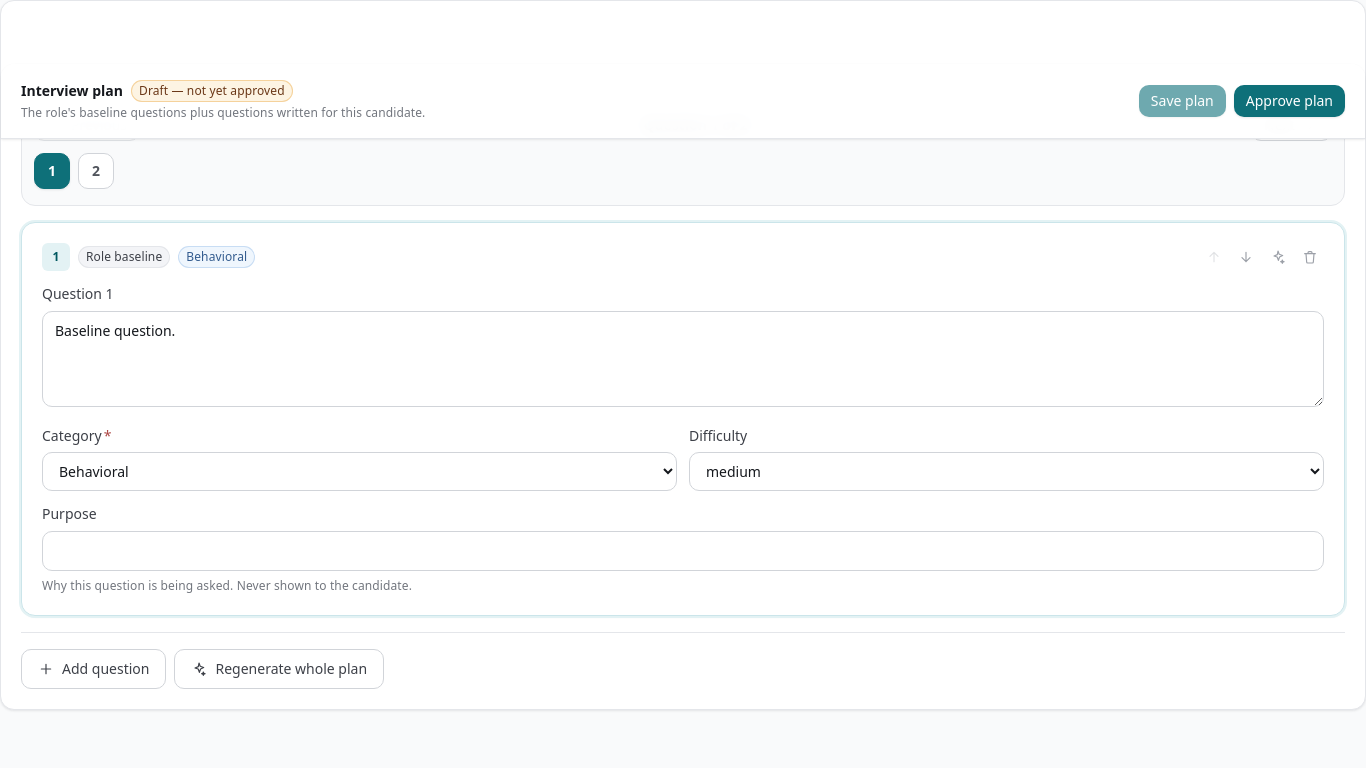
Test case: InterviewPlanEditor › blocks approval while there are unsaved edits
The width and height of the screenshot is (1366, 768).
Step 1. Type " edited" into the text box labelled "Question 1" → (683,359), box [42,311,1324,407]
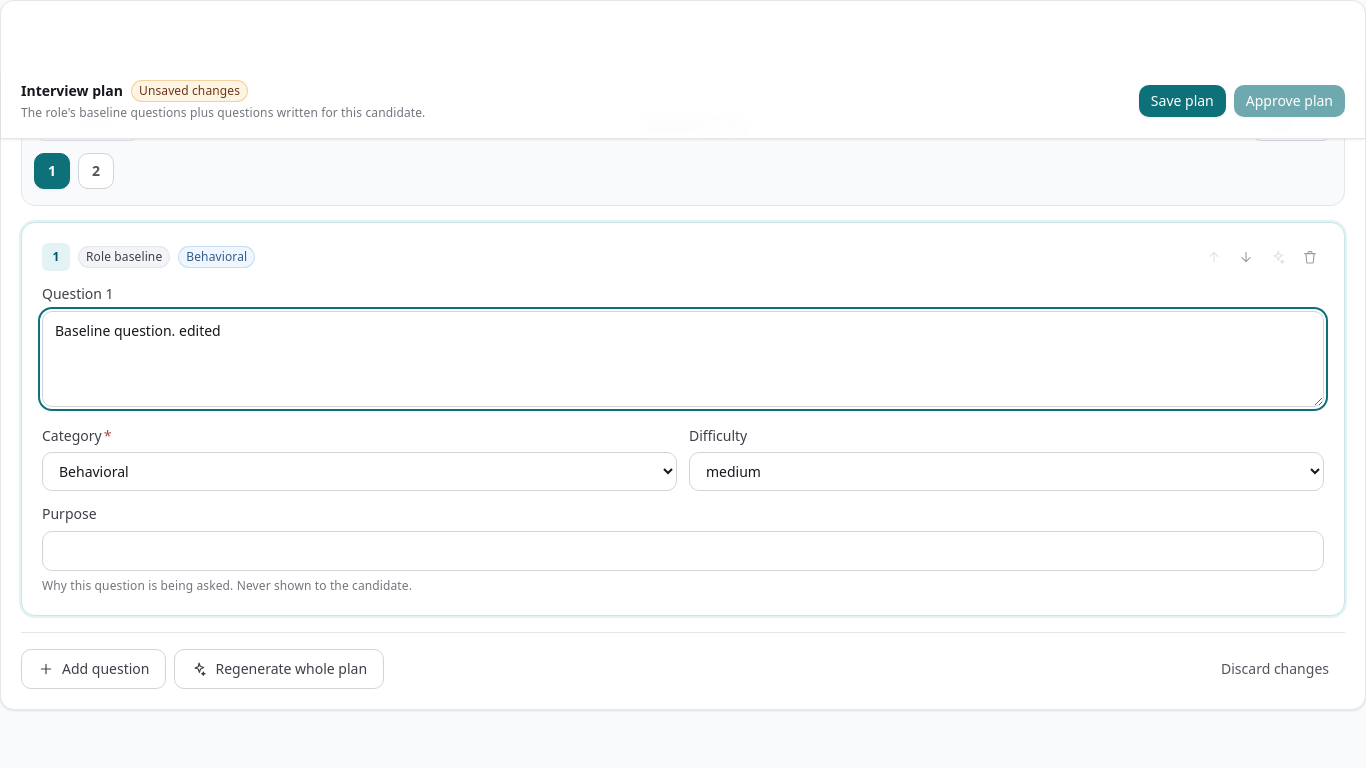
Now the button "Approve plan" is disabled, box [1234,85,1345,117]
Now the text "Unsaved changes" is shown, box [131,80,248,102]
